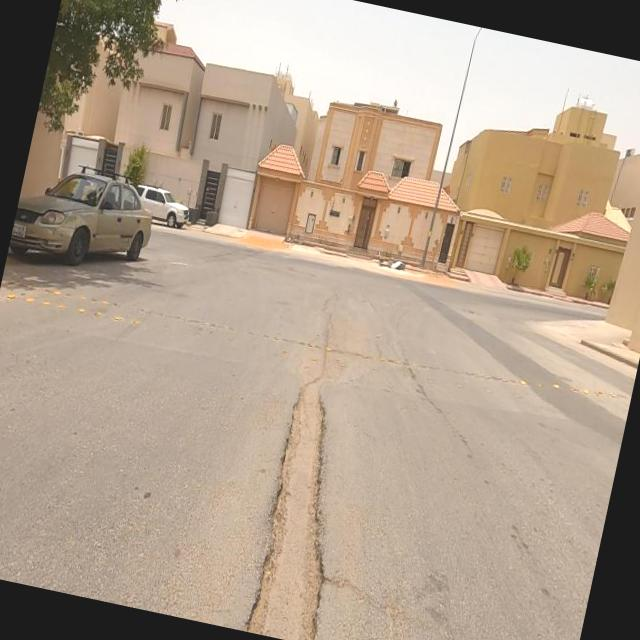debris: (357, 215, 428, 314)
